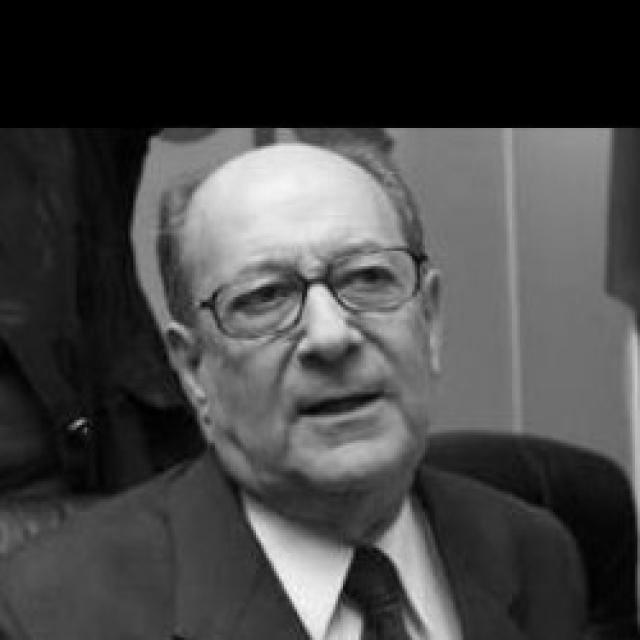real: (148, 148, 448, 522), (204, 251, 418, 326)
